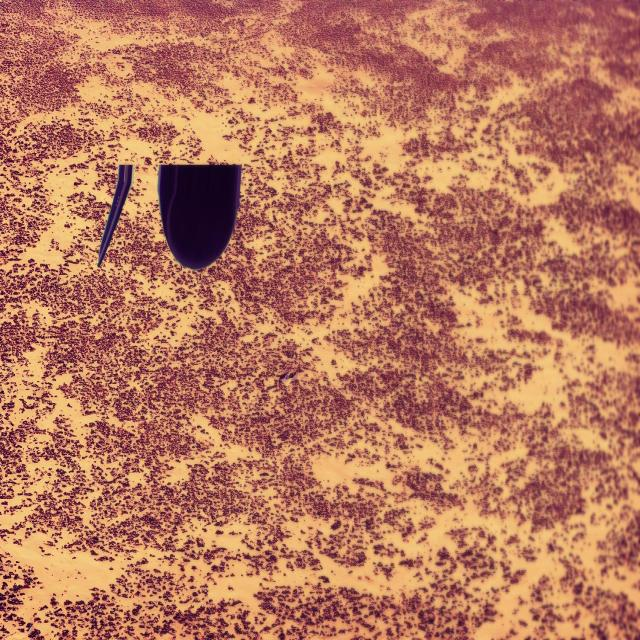airplane: (96, 161, 242, 271)
